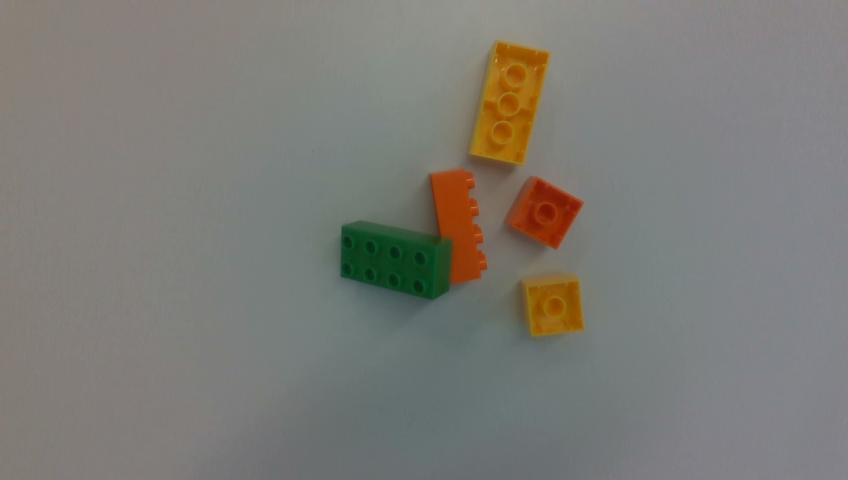2x2_orange: (506, 177, 582, 248)
2x2_yellow: (522, 274, 583, 336)
4x2_green: (341, 221, 451, 299)
4x2_orange: (430, 169, 487, 282)
4x2_yellow: (470, 42, 547, 165)
